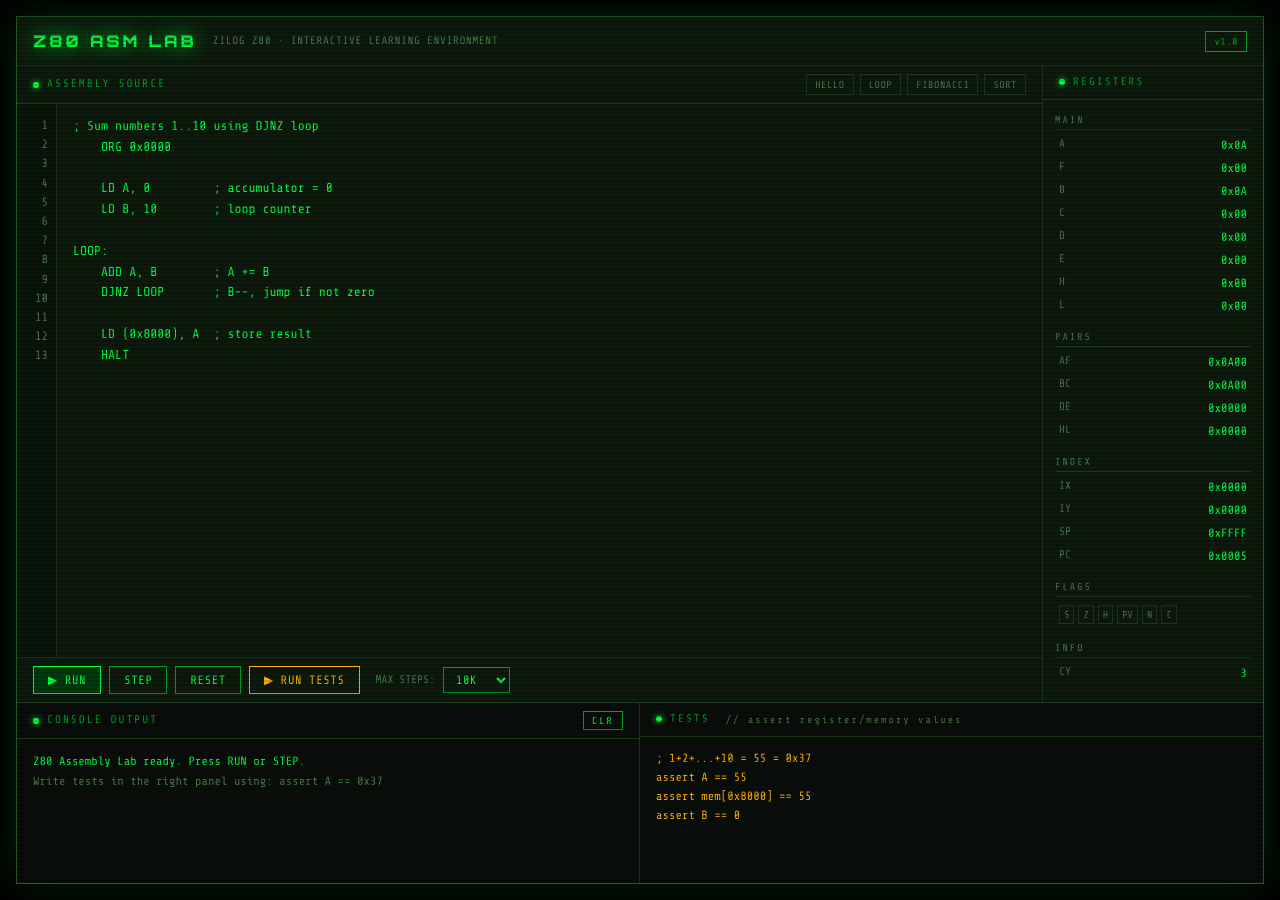
Test: App - STEP on halted CPU › STEP produces Assembled message on first click (builds on demand)
Click the button "STEP": (138, 680) [109,666,168,694]
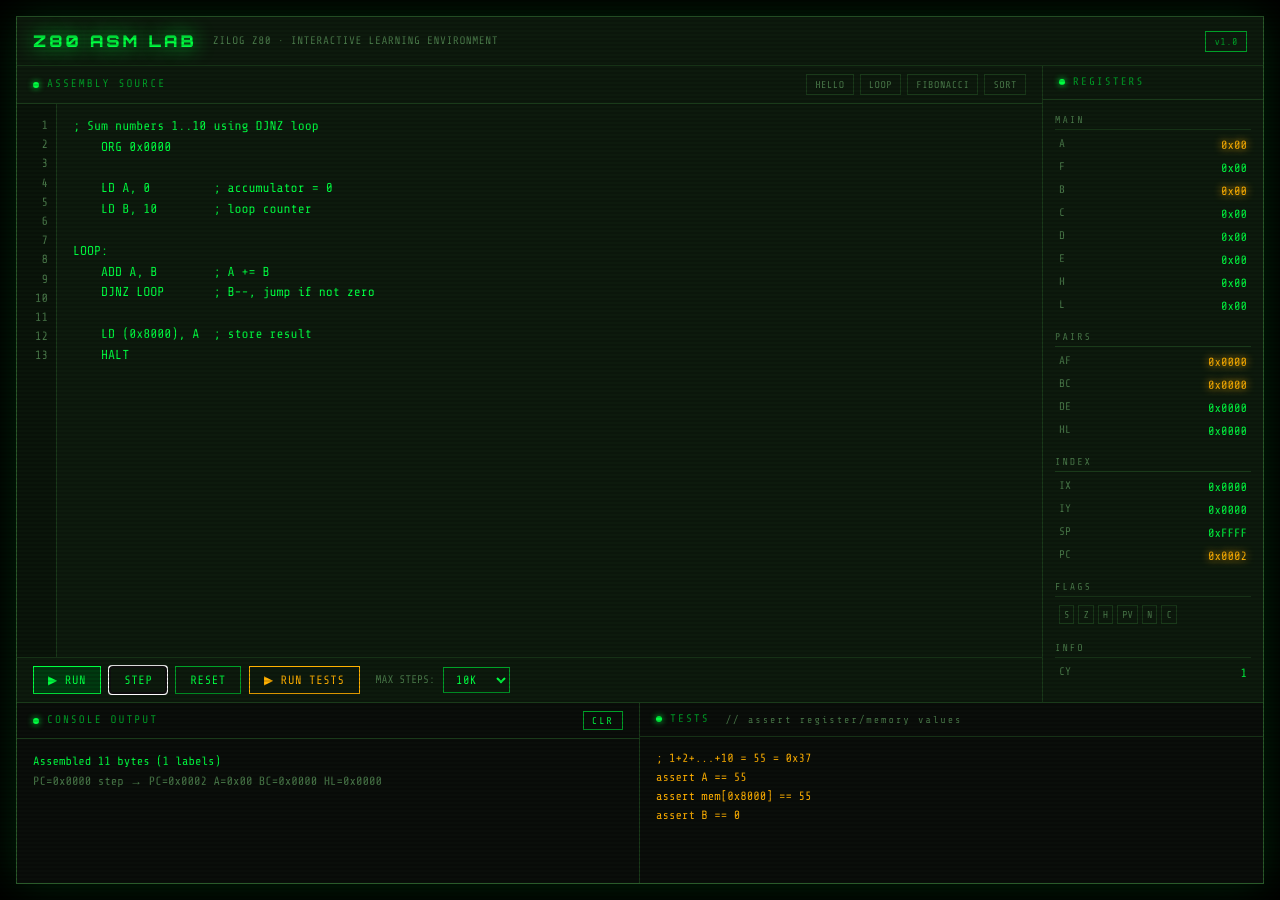
Check: the text "Assembled 11 bytes (1 labels)" is shown, box [33,754,221,768]
